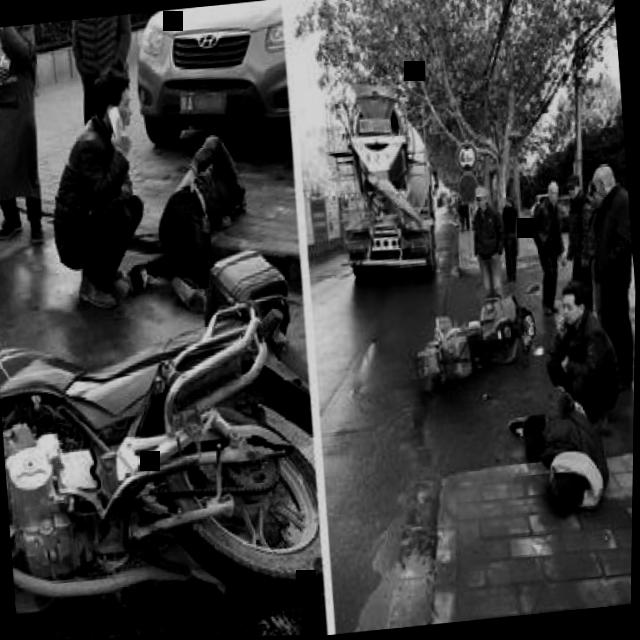Fall-Detected: (496, 372, 622, 527)
